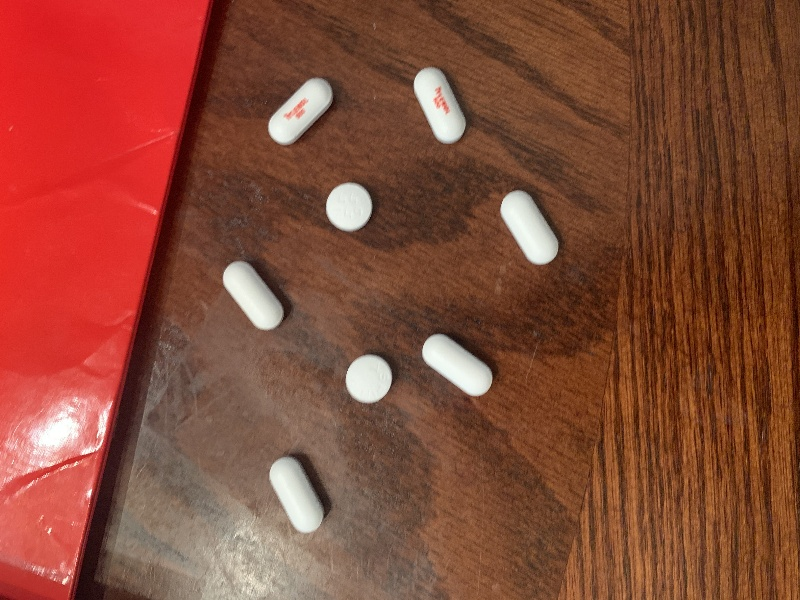Aspirin: (344, 347, 396, 407), (325, 179, 373, 236)
Tylenol: (498, 183, 569, 273), (260, 451, 331, 541), (416, 328, 500, 403), (220, 256, 291, 338), (264, 74, 338, 148), (411, 61, 471, 151)
